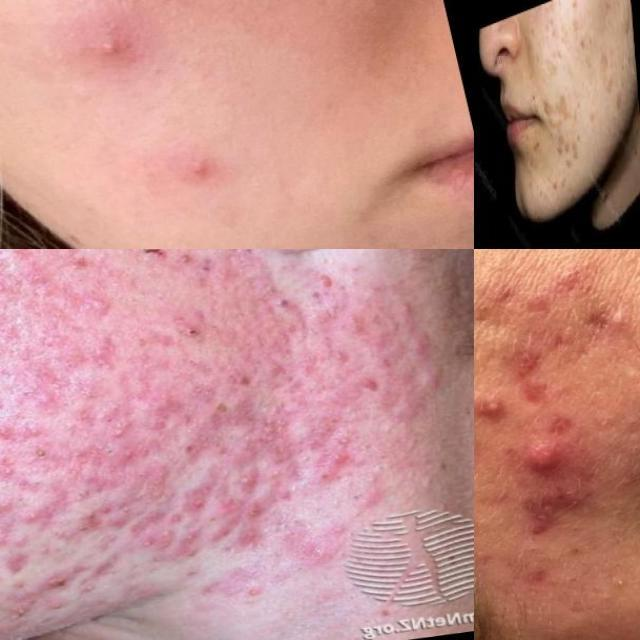Pimples: (486, 339, 576, 419), (62, 18, 164, 78), (298, 445, 368, 511), (158, 305, 235, 364), (170, 140, 236, 198), (513, 432, 577, 487), (74, 281, 128, 332), (540, 258, 598, 298), (398, 358, 454, 398), (0, 546, 44, 590), (226, 462, 278, 498), (332, 306, 372, 344), (474, 392, 514, 422), (558, 541, 593, 561), (615, 410, 640, 433), (566, 568, 587, 591)
